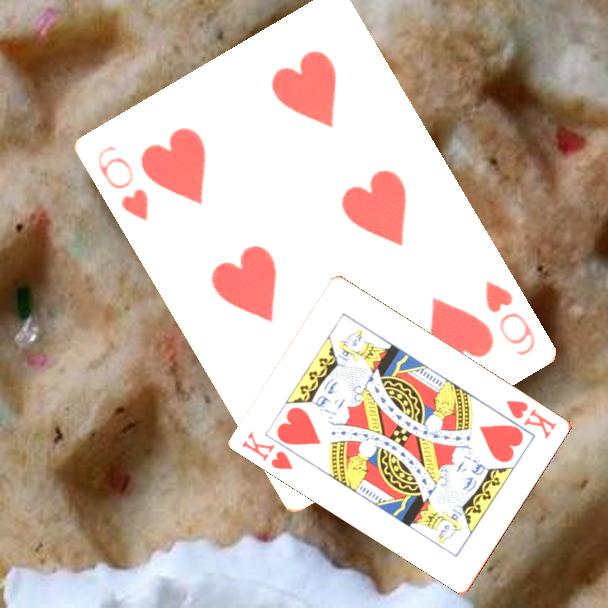h06: (93, 142, 151, 224), (481, 277, 538, 359)
h13: (503, 396, 560, 442), (239, 428, 297, 473)
